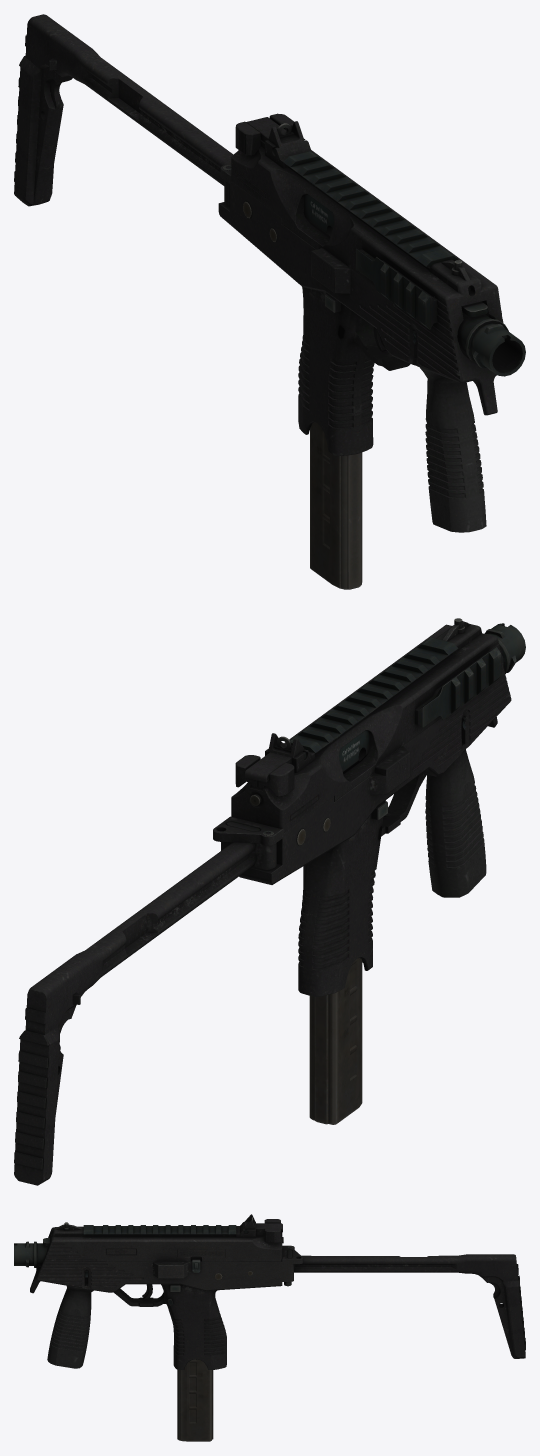
3 views of the same model, one above another, from view 1: azimuth 30°, elevation 25°; view 2: azimuth 150°, elevation 25°; view 3: azimuth 270°, elevation 25° (orthographic). The views are drawn at different scales.
Visible parts, largest first — view 1: mp9; view 2: mp9; view 3: mp9.
Boxes of the visible parts, x1,y1,x2,y2 form: mp9: (14, 14, 525, 589); mp9: (14, 618, 525, 1185); mp9: (14, 1214, 525, 1441).
Bounding box in the file's own units: 2.02 × 10.53 × 22.13.
1 material, 1 textured.
